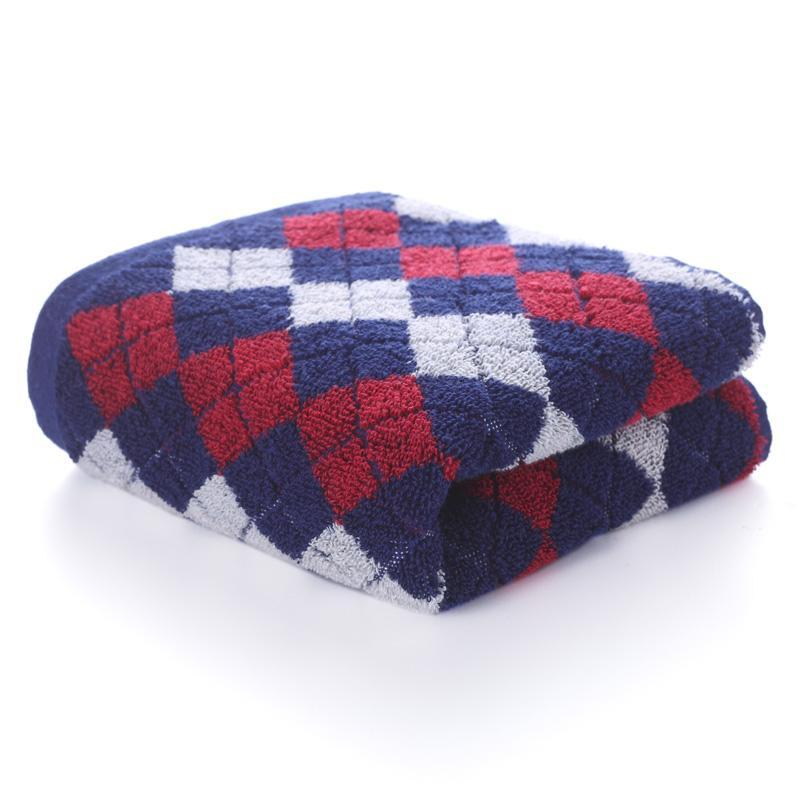flexible: (21, 184, 777, 611)
